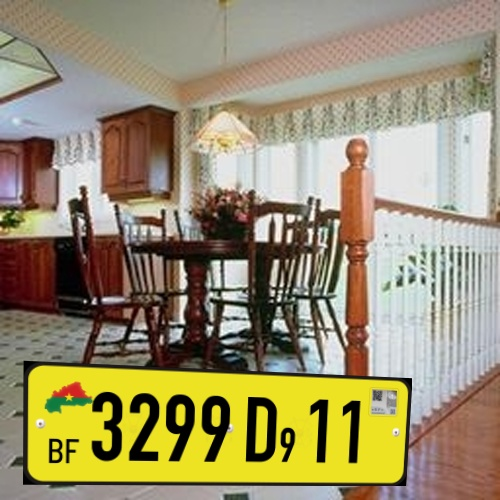plate: (19, 348, 428, 500)
